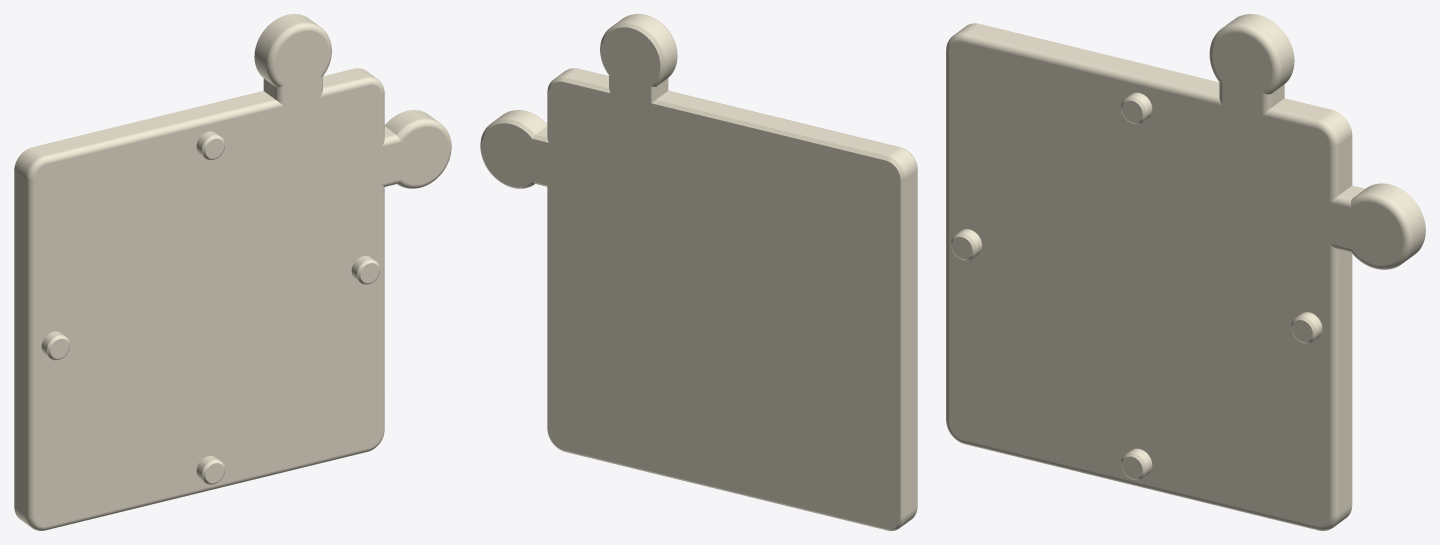
Rendered from tile-corner-sw@ivory.glb.
3 renders of one model, left to right at view 1: azimuth 30°, elevation 25°; view 2: azimuth 150°, elevation 25°; view 3: azimuth 330°, elevation 25°, orthographic. The views are drawn at different scales.
Visible parts, largest first — view 1: geometry_0; view 2: geometry_0; view 3: geometry_0.
Boxes of the visible parts, box(x1,y1,x2,y2) form: geometry_0: box(14, 14, 451, 530); geometry_0: box(480, 14, 917, 530); geometry_0: box(946, 14, 1425, 530).
Size of the model in its own units: 58.9 by 58.9 by 5.6.
